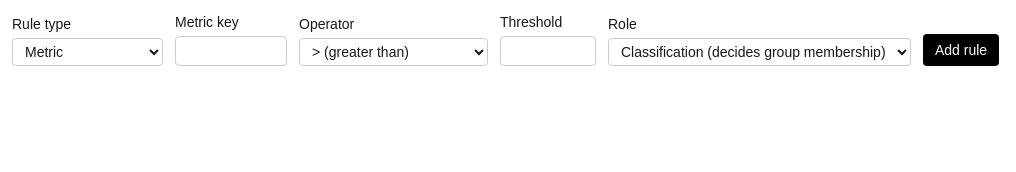
RuleForm › switches to allocation fields when the rule type is changed
The width and height of the screenshot is (1016, 172).
Select "Position allocation" in the dropdown labelled "Rule type" at (88, 52), box top-left (12, 38), bottom-right (163, 66)
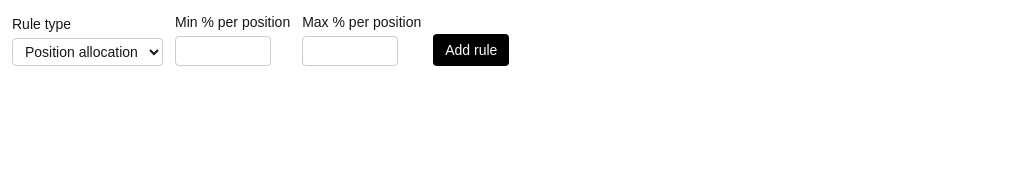
Expected: the number field labelled "Min % per position" is shown, top-left (175, 36), bottom-right (271, 66)
Expected: the label labelled "Metric key" is gone
Expected: the number field labelled "Max % per position" is shown, top-left (302, 36), bottom-right (398, 66)
